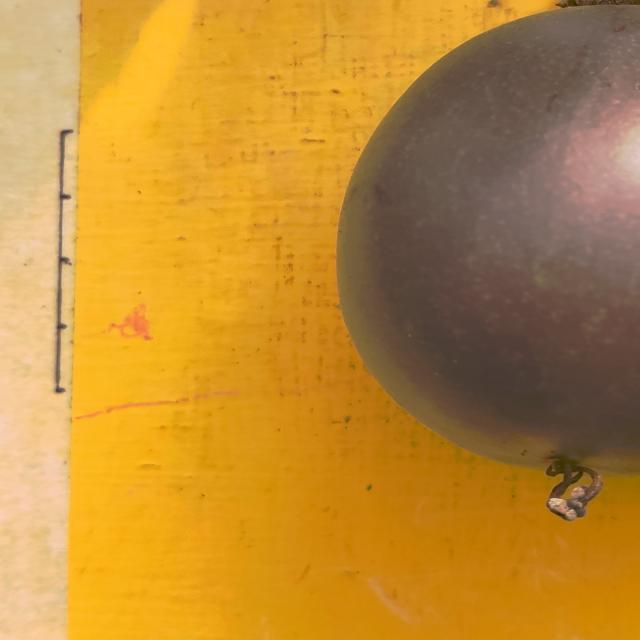Estado-4: (339, 0, 640, 474)
